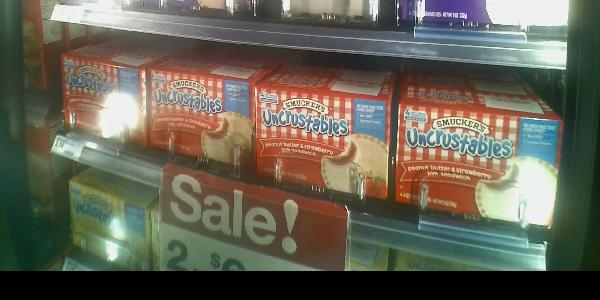icecream: (396, 71, 554, 229), (254, 83, 392, 206), (146, 67, 255, 173), (56, 52, 148, 147)
